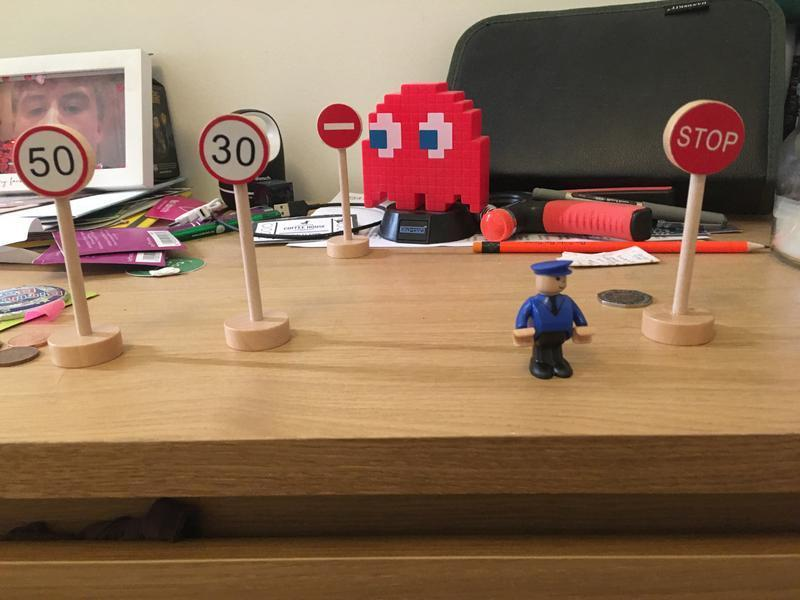Traffic_Sign_30: (198, 118, 270, 182)
Traffic_Sign_50: (13, 128, 91, 201)
Traffic_Sign_No_Entry: (316, 104, 362, 149)
Traffic_Sign_Stop: (667, 103, 745, 176)
person: (508, 258, 593, 383)
